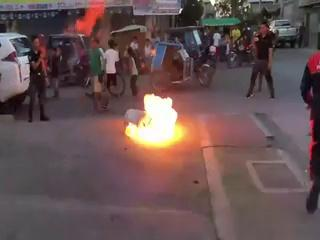Fire: (121, 87, 183, 146)
